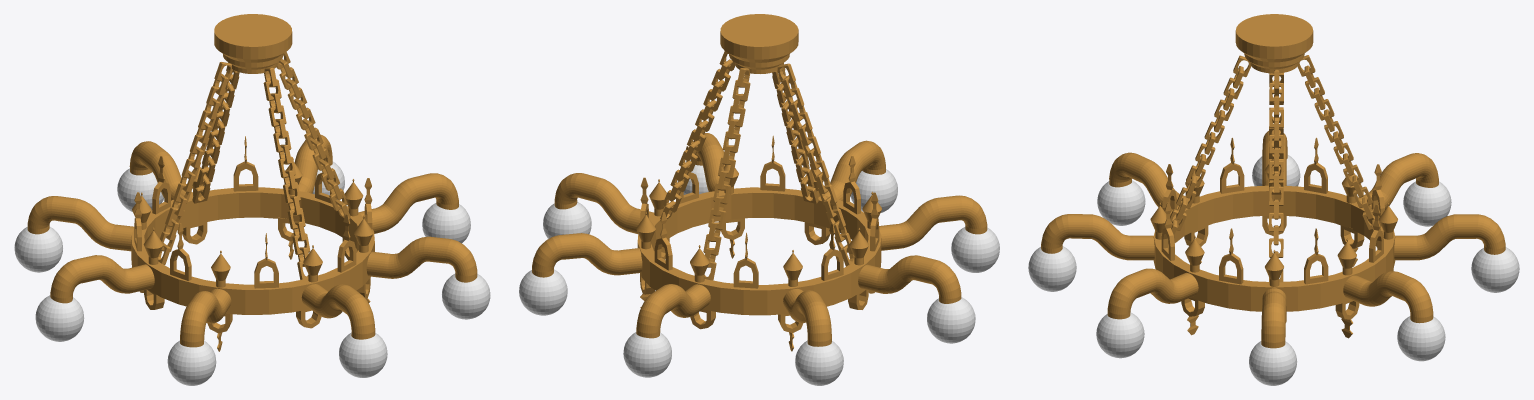
File: lampara_araña.glb
3 renders of one model, left to right at view 1: azimuth 30°, elevation 25°; view 2: azimuth 150°, elevation 25°; view 3: azimuth 270°, elevation 25°, orthographic.
Visible parts, largest first — view 1: Cylinder, Cylinder.034, Cylinder.008, Cylinder.006, Cylinder.001, Cylinder.004, Cylinder.002, Cylinder.007, Sphere.002, Sphere.007, Sphere.001, Sphere.006 (+15 smaller); view 2: Cylinder, Cylinder.034, Cylinder.005, Cylinder.007, Cylinder.001, Cylinder.004, Cylinder.003, Cylinder.006, Sphere.002, Sphere, Sphere.006, Sphere.004 (+17 smaller); view 3: Cylinder, Cylinder.034, Cylinder.002, Cylinder.003, Cylinder.005, Cylinder.008, Cylinder.006, Cylinder.007, Sphere.001, Sphere, Sphere.005, Sphere.006 (+18 smaller).
Part boxes in pixels (x1,y1,x2,y2): Cylinder: (131,187,374,314); Cylinder.034: (214,14,292,73); Cylinder.008: (366,236,477,282); Cylinder.006: (27,196,134,251); Cylinder.001: (50,255,154,303); Cylinder.004: (358,173,458,233); Cylinder.002: (301,284,375,339); Cylinder.007: (180,288,231,347); Sphere.002: (35,295,84,341); Sphere.007: (14,227,62,272); Sphere.001: (339,332,387,377); Sphere.006: (167,340,216,385); Cylinder: (637,187,881,315); Cylinder.034: (720,14,798,73); Cylinder.005: (532,233,642,277); Cylinder.007: (879,195,987,250); Cylinder.001: (858,255,961,303); Cylinder.004: (554,173,653,233); Cylinder.003: (636,284,710,338); Cylinder.006: (783,289,831,346); Sphere.002: (927,297,975,343); Sphere: (623,332,671,377); Sphere.006: (951,227,999,272); Sphere.004: (519,269,567,315); Cylinder: (1153,185,1395,311); Cylinder.034: (1235,14,1313,73); Cylinder.002: (1041,214,1154,260); Cylinder.003: (1394,214,1505,260); Cylinder.005: (1343,271,1433,323); Cylinder.008: (1107,268,1198,319); Cylinder.006: (1358,153,1438,209); Cylinder.007: (1109,152,1189,207); Sphere.001: (1028,246,1076,291); Sphere: (1471,247,1519,292); Sphere.005: (1096,312,1144,358); Sphere.006: (1097,180,1145,225).
Bounding box in the file's own units: 2.02 × 1.24 × 2.03.
